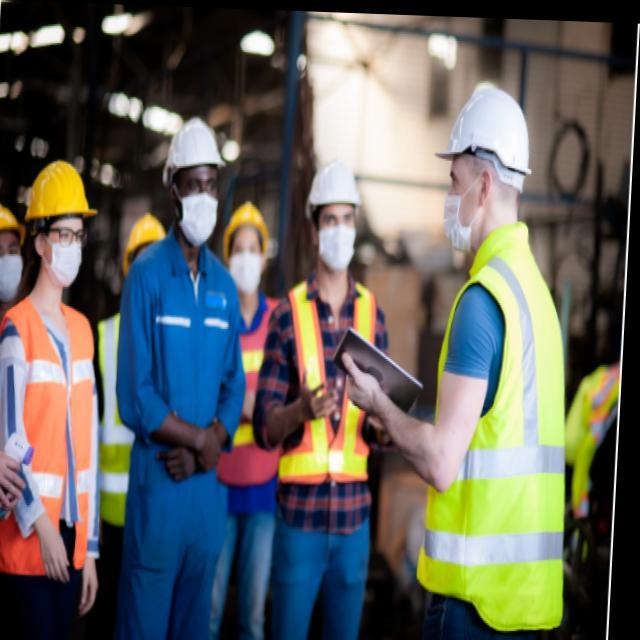hard_hat: (433, 78, 534, 247), (20, 155, 101, 295), (158, 111, 229, 254), (299, 164, 366, 276), (220, 197, 273, 308), (121, 218, 172, 302), (0, 195, 27, 309)
vest: (413, 217, 589, 640), (0, 293, 106, 584), (268, 274, 391, 496), (86, 300, 190, 541), (202, 293, 296, 492)
